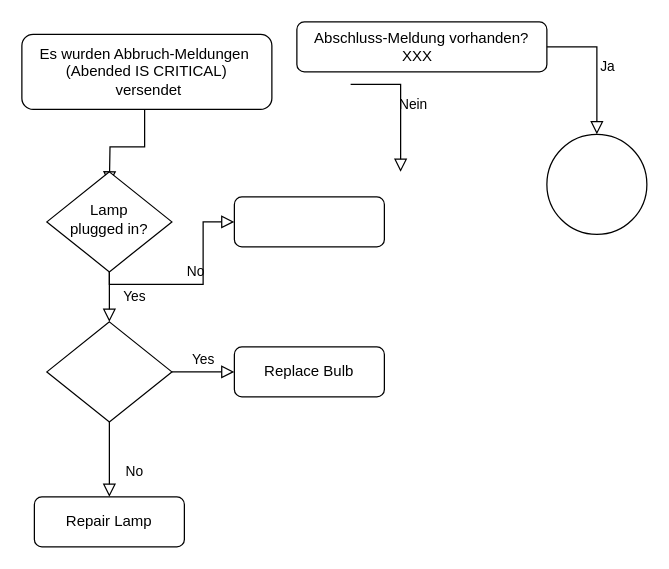
Some shapes in this 669 by 569 pixel diagram are drawn without their labels. The centre of each missing label's shape, as x and y in pixels:
Bulb burned out?: the point at 109,371
OK: the point at 596,183
Plug in lamp: the point at 308,221
